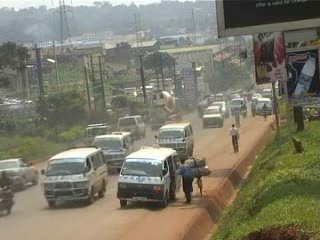Car: (0, 156, 39, 192), (84, 121, 113, 145), (201, 106, 224, 128), (211, 100, 228, 117)
Motorcycle: (0, 184, 15, 220)
